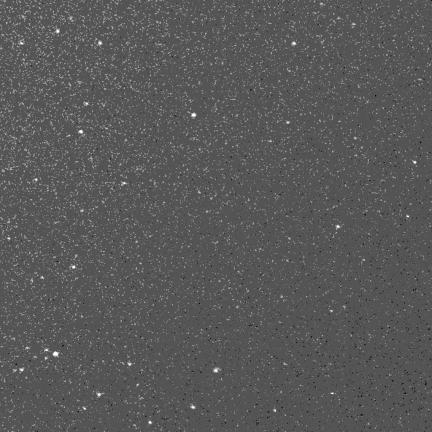blob: (84, 102, 90, 106), (53, 352, 59, 356), (56, 29, 60, 34), (273, 408, 277, 413), (214, 368, 219, 372), (19, 41, 24, 45), (191, 113, 196, 117), (149, 421, 153, 425), (7, 237, 11, 241), (79, 130, 83, 134), (128, 362, 132, 366), (98, 41, 102, 45), (191, 405, 195, 409), (407, 215, 410, 219), (331, 392, 335, 395), (72, 265, 75, 269), (292, 42, 296, 45), (83, 407, 86, 410), (34, 178, 37, 181), (287, 121, 290, 124), (413, 161, 416, 164), (354, 137, 357, 140)
